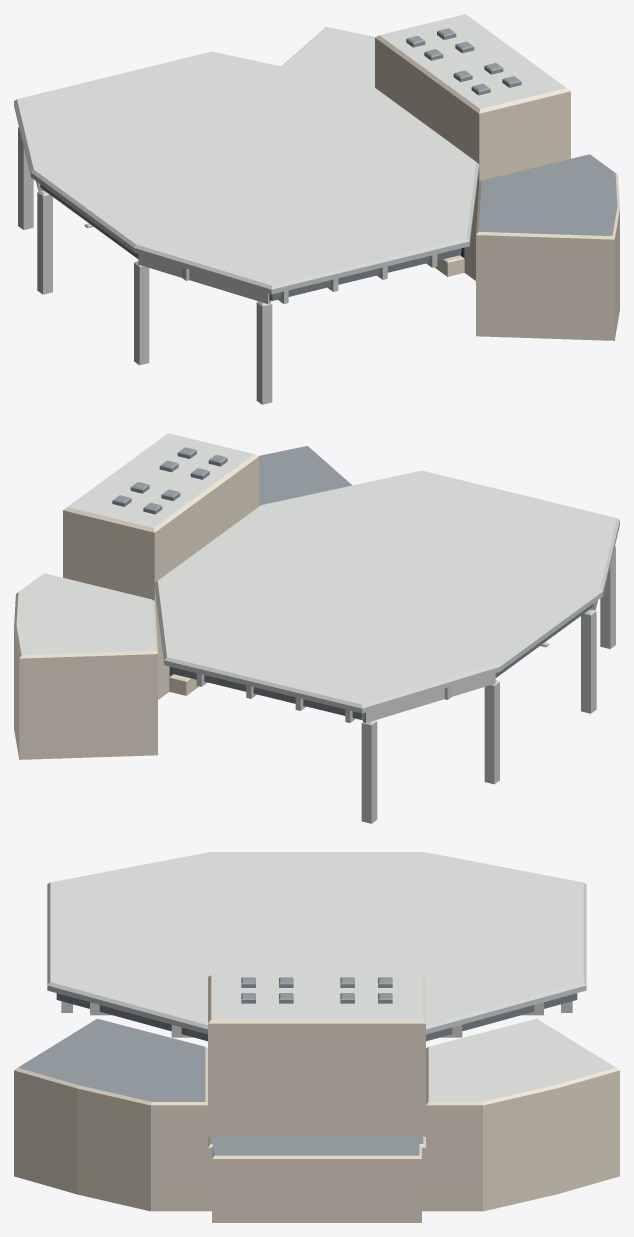
File: pnc-music-pavilion.glb
The picture shows the model from 3 angles, top to bottom: view 1: azimuth 30°, elevation 25°; view 2: azimuth 150°, elevation 25°; view 3: azimuth 270°, elevation 25°; orthographic projection. The views are drawn at different scales.
Parts seen in each view (by area): view 1: PNC Music Pavilion; view 2: PNC Music Pavilion; view 3: PNC Music Pavilion.
Part boxes in pixels (box(x1,y1,x2,y2)): PNC Music Pavilion: box(14, 14, 619, 404); PNC Music Pavilion: box(14, 433, 619, 823); PNC Music Pavilion: box(14, 852, 619, 1222).
Bounding box in the file's own units: 87.1 × 30.8 × 91.2.
